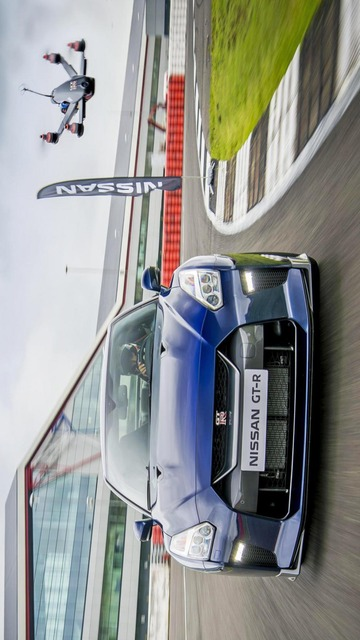drone: (18, 38, 96, 150)
